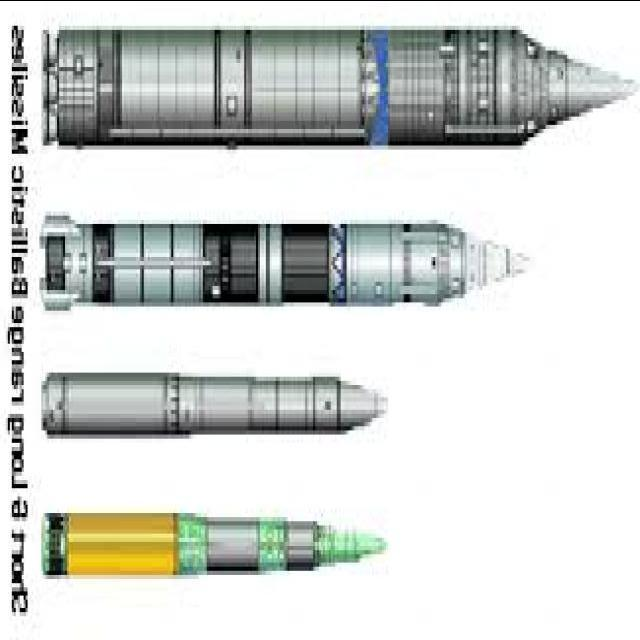Missile: (34, 0, 640, 174), (36, 196, 573, 331), (40, 354, 397, 462), (42, 497, 393, 597)
